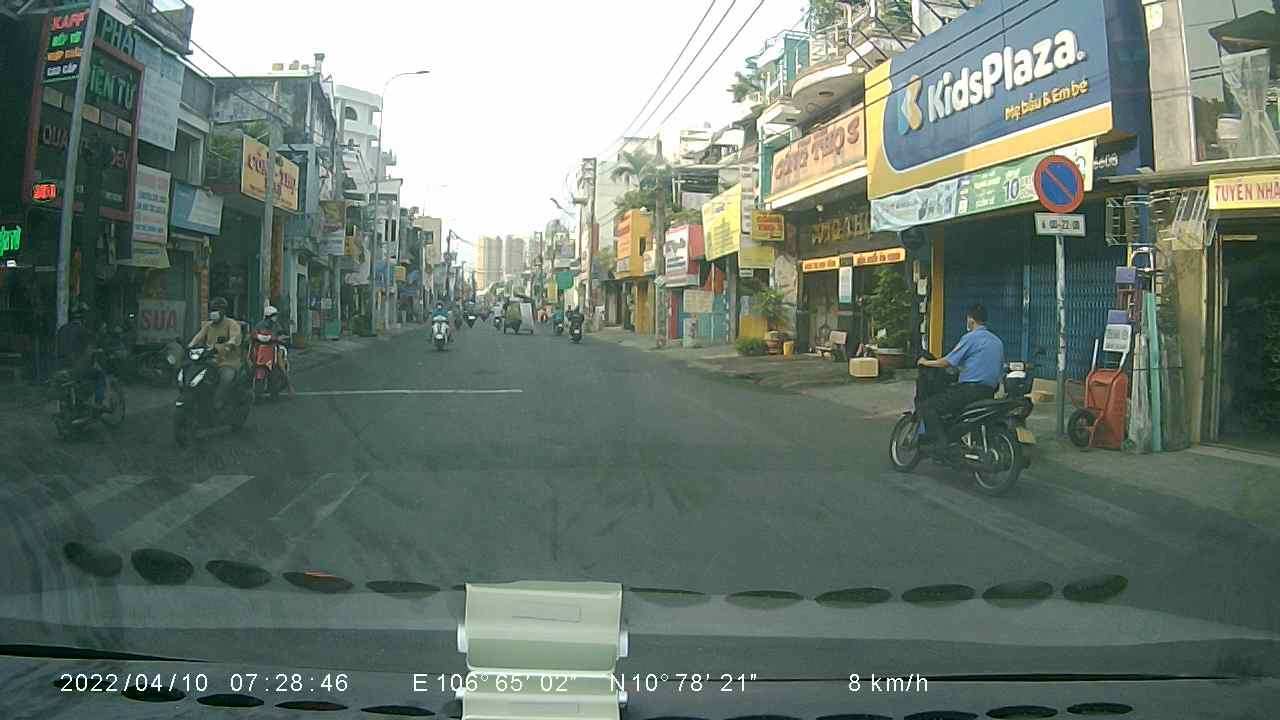Cam do xe: (1032, 144, 1092, 215)
